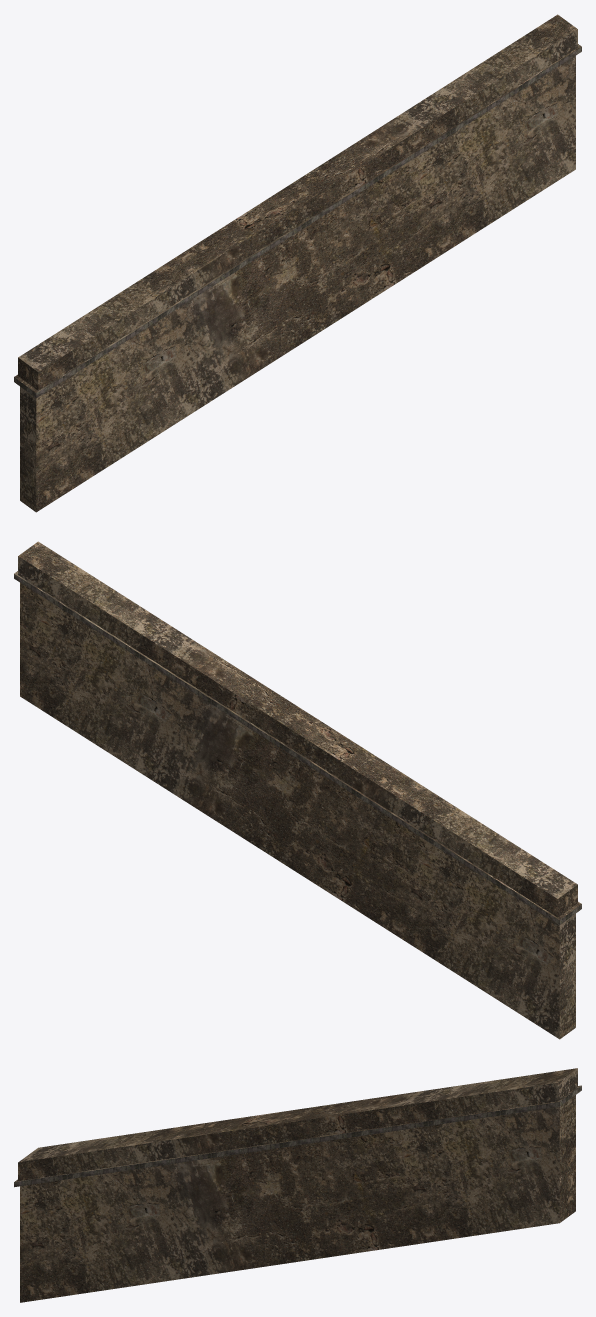
File: materials_5_wall_rectangle_3.fbx
3 renders of one model, top to bottom at view 1: azimuth 30°, elevation 25°; view 2: azimuth 150°, elevation 25°; view 3: azimuth 330°, elevation 25°, orthographic.
Parts seen in each view (by area): view 1: materials_5_wall_rectangle_3; view 2: materials_5_wall_rectangle_3; view 3: materials_5_wall_rectangle_3.
Part boxes in pixels (x1,y1,x2,y2): materials_5_wall_rectangle_3: (14,14,581,512); materials_5_wall_rectangle_3: (14,541,581,1039); materials_5_wall_rectangle_3: (14,1068,581,1302).
Size of the model in its own units: 383 by 237 by 27.2.
